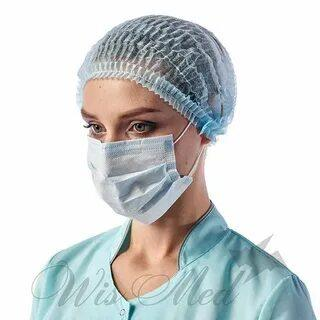hairnet: (88, 13, 265, 131)
mask: (80, 128, 197, 252)
